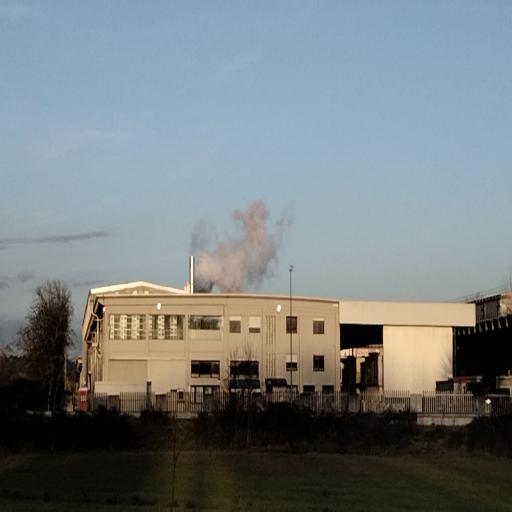leakage: (188, 196, 286, 298)
